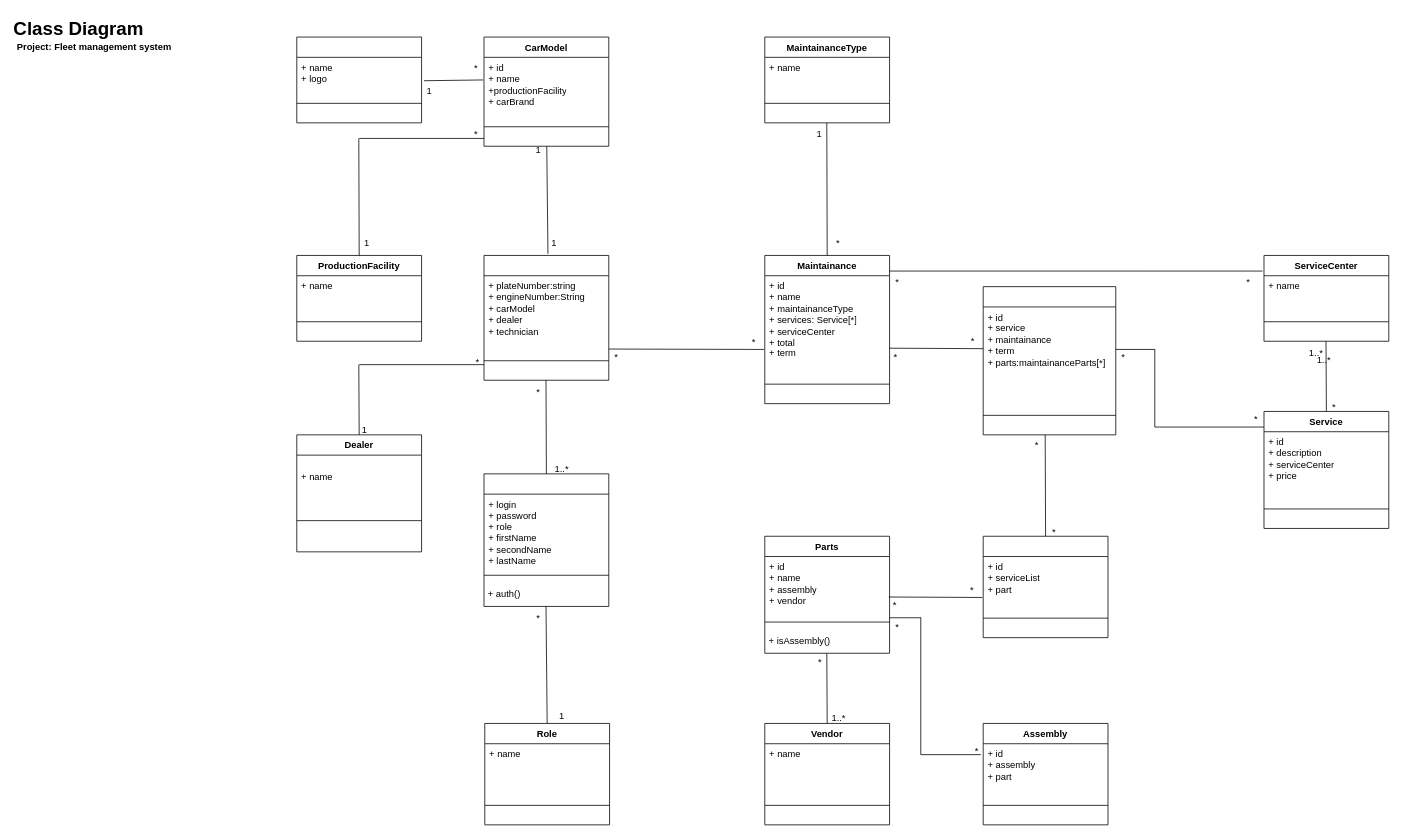
This 1402x838 diagram has some shape labels left out. Here are the shapes that lost their labels. From the top down, the box of each, then its label:
(296, 36, 422, 123): CarBrand
(483, 255, 609, 380): Vehicle
(982, 286, 1116, 435): ServiceList
(483, 473, 609, 606): Technician
(982, 535, 1108, 638): MaintainanceParts
